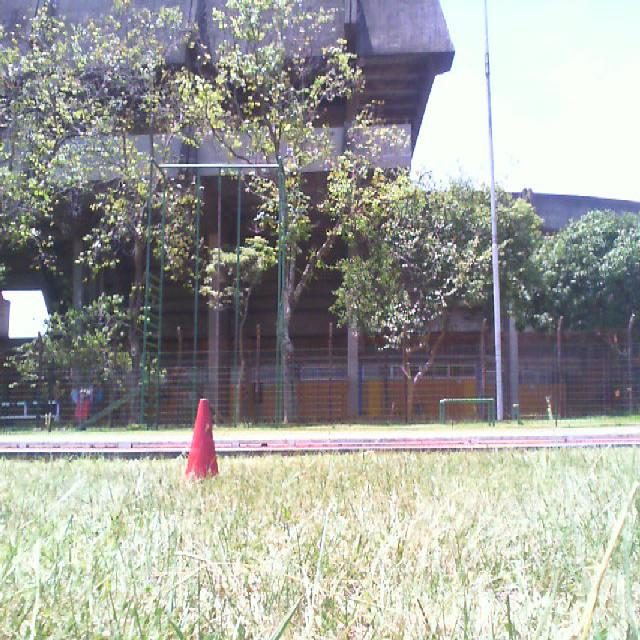cone: (184, 399, 219, 484)
